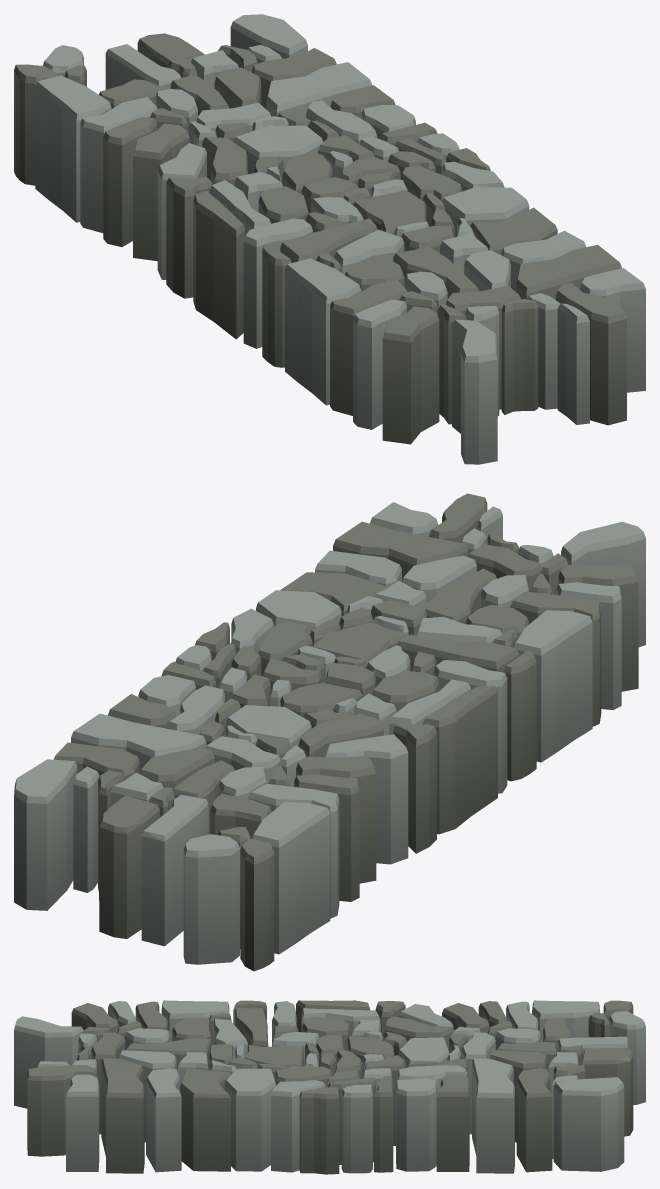
Rendered from ZLP_Road_B_5.FBX.
3 renders of one model, top to bottom at view 1: azimuth 30°, elevation 25°; view 2: azimuth 150°, elevation 25°; view 3: azimuth 270°, elevation 25°, orthographic. The views are drawn at different scales.
Visible parts, largest first — view 1: ZLP_Road_B_5; view 2: ZLP_Road_B_5; view 3: ZLP_Road_B_5.
Boxes of the visible parts, left/top/right/bottom form: ZLP_Road_B_5: left=14, top=14, right=645, bottom=464; ZLP_Road_B_5: left=14, top=493, right=645, bottom=971; ZLP_Road_B_5: left=14, top=1000, right=645, bottom=1174.
Bounding box in the file's own units: 368 × 144 × 1034.
